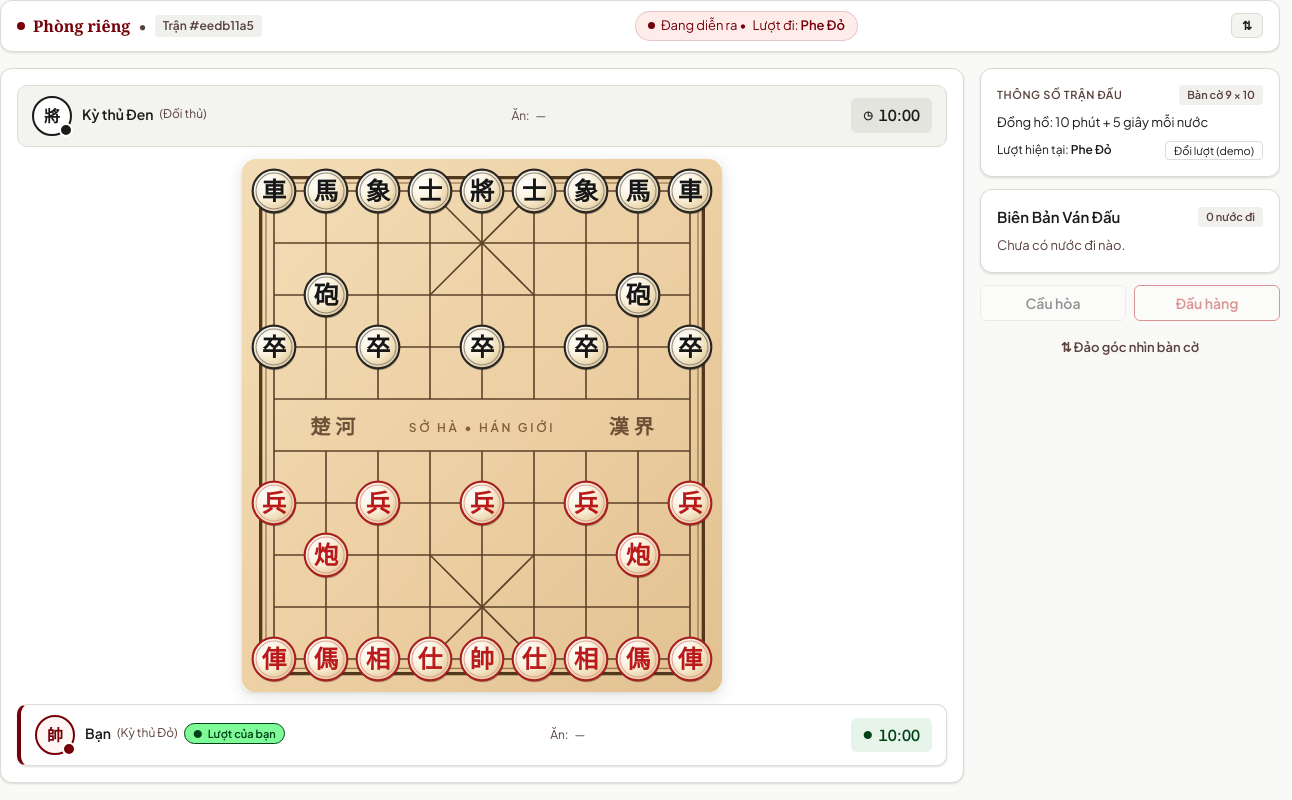
Test case: MatchPage › marks the opponent turn after the turn changes
This screenshot has width=1292, height=800.
Click the button "Đổi lượt (demo)". click: (1214, 150)
box: x1=1165 y1=140 x2=1263 y2=160
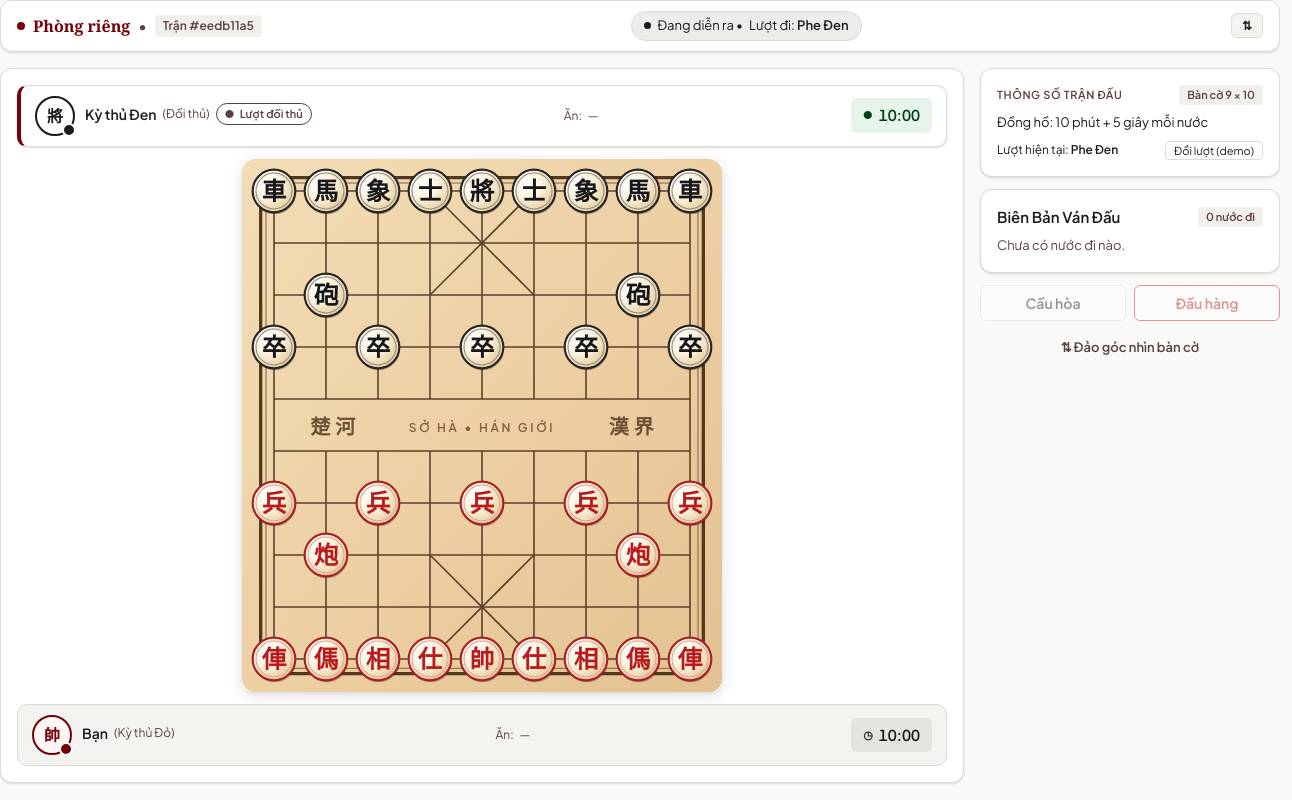
Check: the text "Lượt đối thủ" is shown, box x1=240 y1=107 x2=303 y2=120
